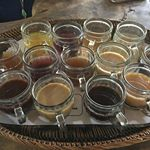cups: (29, 72, 75, 134), (82, 74, 130, 132), (1, 67, 34, 128), (60, 45, 96, 91), (122, 62, 150, 118)
